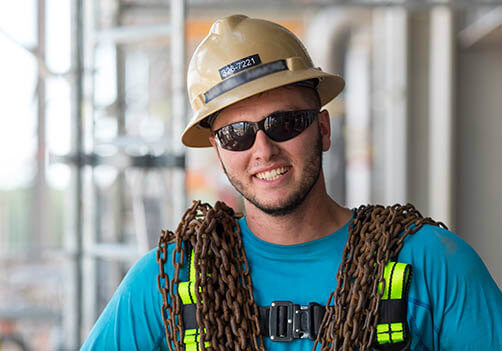epi: (129, 11, 468, 350)
